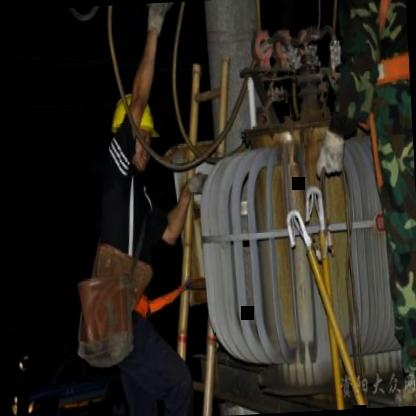helmet: (104, 87, 162, 177)
